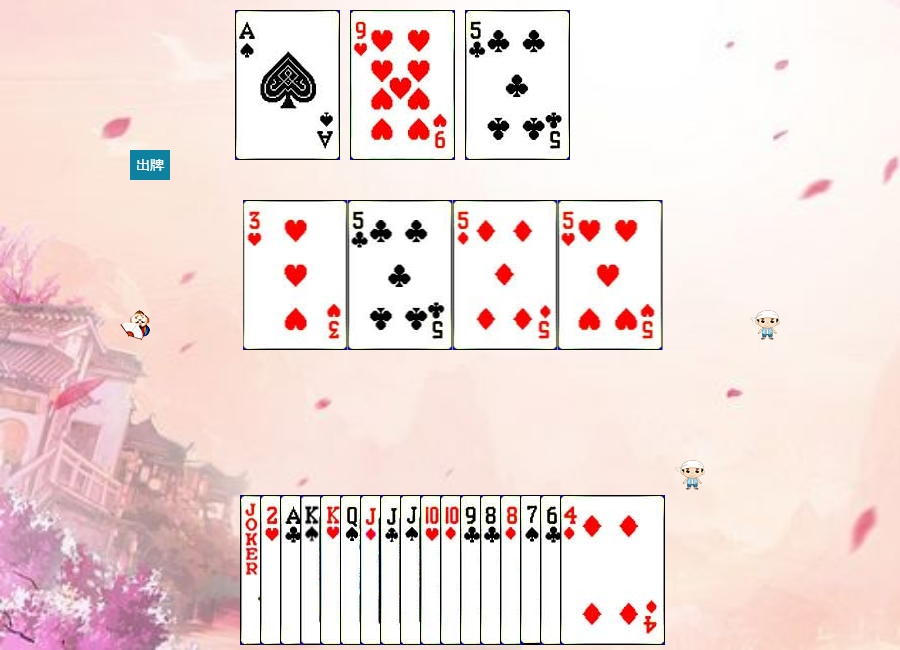10~1: (440, 495, 545, 645)
10~3: (420, 495, 525, 645)
11~1: (360, 495, 465, 645)
11~2: (380, 495, 485, 645)
11~4: (400, 495, 505, 645)
12~4: (340, 495, 445, 645)
13~3: (320, 495, 425, 645)
13~4: (300, 495, 405, 645)
14~2: (280, 495, 385, 645)
14~4: (235, 10, 340, 160)
15~3: (260, 495, 365, 645)
18~4: (240, 495, 345, 645)
3~3: (243, 200, 348, 350)
4~1: (560, 495, 665, 645)
5~1: (453, 200, 558, 350)
5~2: (465, 10, 570, 160), (348, 200, 453, 350)
5~3: (558, 200, 663, 350)
6~2: (540, 495, 645, 645)
7~4: (520, 495, 625, 645)
8~1: (500, 495, 605, 645)
8~2: (480, 495, 585, 645)
9~2: (460, 495, 565, 645)
9~3: (350, 10, 455, 160)
